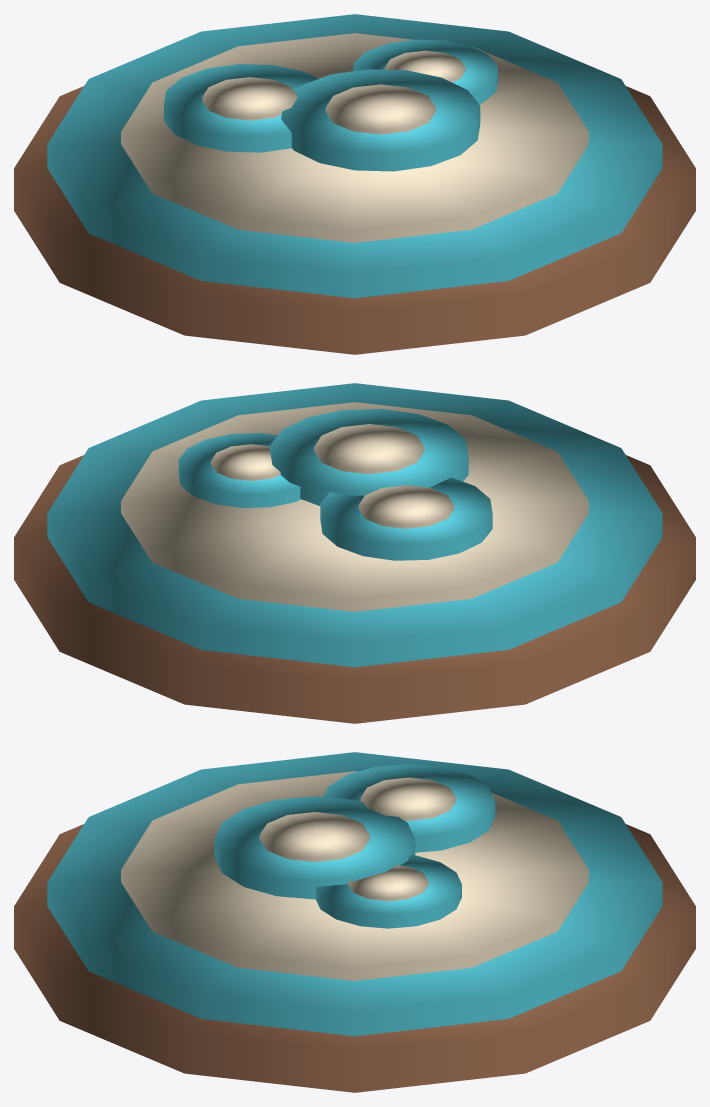
File: pad_input.glb
3 views of the same model, one above another, from view 1: azimuth 30°, elevation 25°; view 2: azimuth 150°, elevation 25°; view 3: azimuth 270°, elevation 25° (orthographic).
Parts seen in each view (by area): view 1: pad_pad_input; view 2: pad_pad_input; view 3: pad_pad_input.
Part boxes in pixels (x1,y1,x2,y2): pad_pad_input: (14,14,695,354); pad_pad_input: (14,383,695,723); pad_pad_input: (14,752,695,1092).
Size of the model in its own units: 2.04 by 0.384 by 2.04.
